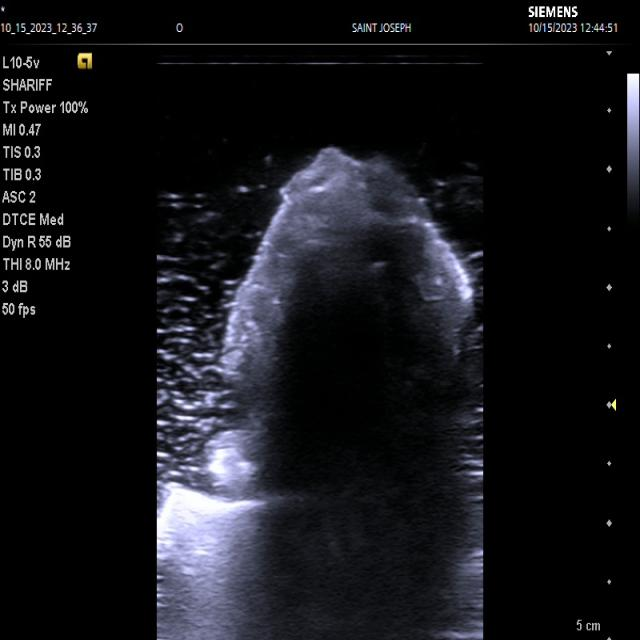tissue: (155, 148, 483, 640)
